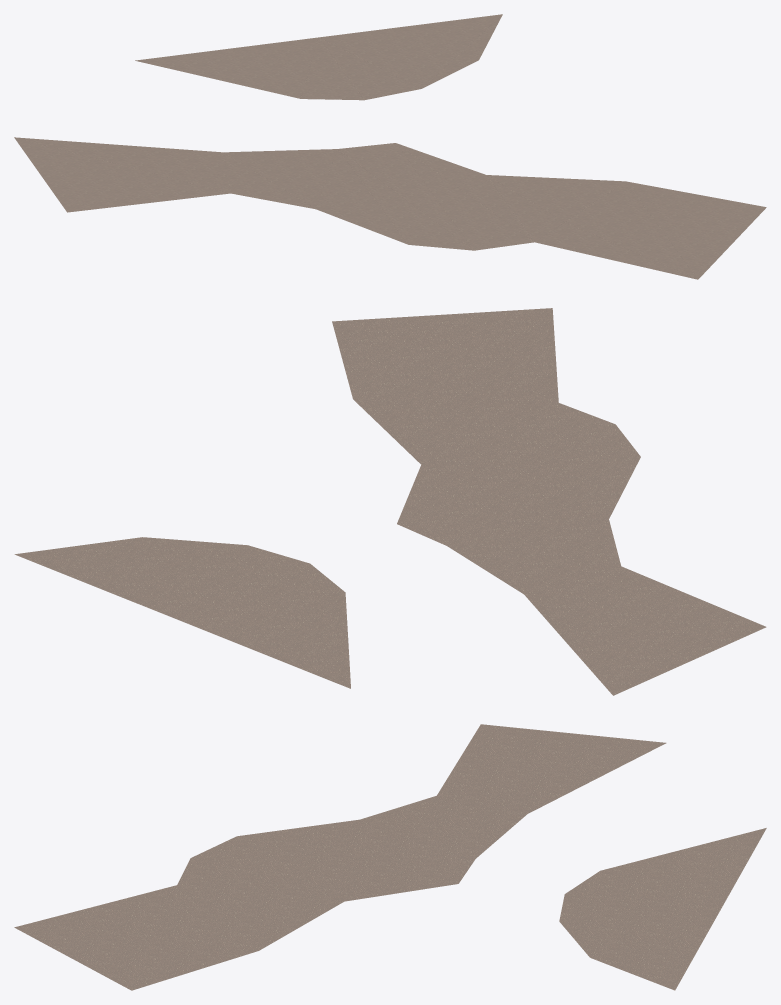
File: kd_stage_136599_0_12_bounded.glb
The picture shows the model from 3 angles, top to bottom: view 1: azimuth 30°, elevation 25°; view 2: azimuth 150°, elevation 25°; view 3: azimuth 270°, elevation 25°; orthographic projection. The views are drawn at different scales.
Parts seen in each view (by area): view 1: kd_stage_136599_0_12_bounded; view 2: kd_stage_136599_0_12_bounded; view 3: kd_stage_136599_0_12_bounded.
Part boxes in pixels (box(x1,y1,x2,y2)): kd_stage_136599_0_12_bounded: box(14, 14, 766, 279); kd_stage_136599_0_12_bounded: box(14, 308, 766, 695); kd_stage_136599_0_12_bounded: box(14, 724, 766, 990).
Size of the model in its own units: 58.42 by 7.63e-06 by 69.76.
Materials: 1 (1 with a texture image).
